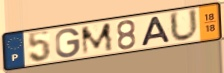5: (25, 29, 53, 64)
8: (116, 19, 137, 51)
A: (139, 15, 172, 48)
G: (54, 27, 81, 59)
M: (79, 21, 115, 57)
U: (168, 7, 200, 43)
